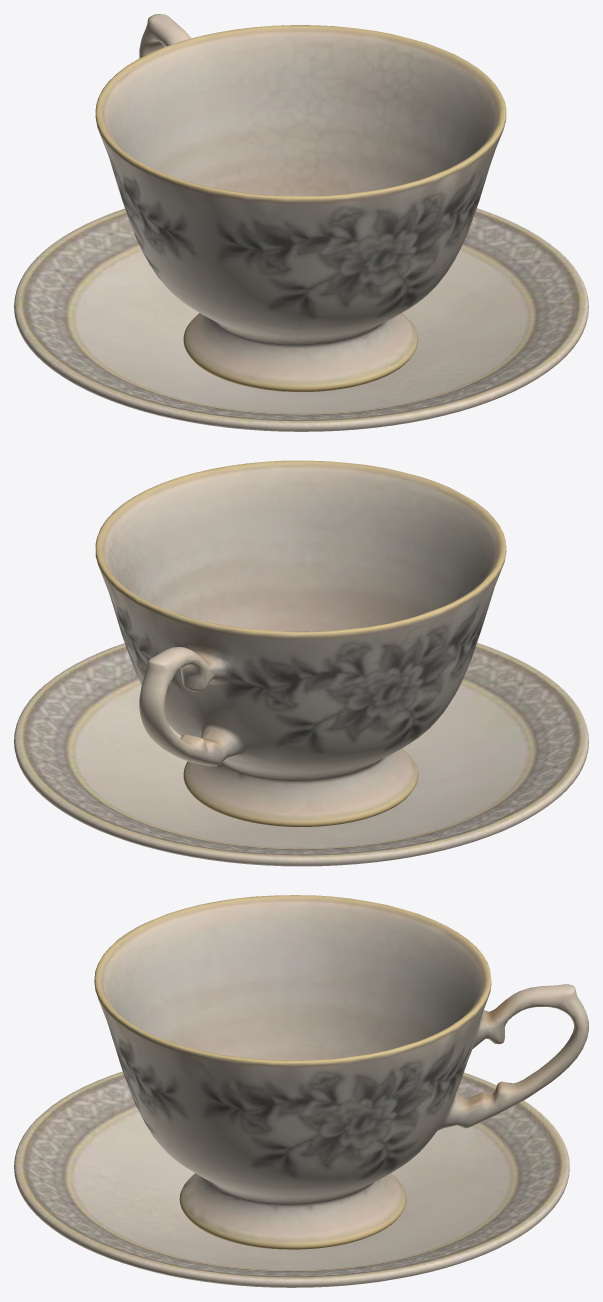
Rendered from teacup.glb.
3 renders of one model, top to bottom at view 1: azimuth 30°, elevation 25°; view 2: azimuth 150°, elevation 25°; view 3: azimuth 270°, elevation 25°, orthographic. The views are drawn at different scales.
Parts seen in each view (by area): view 1: tea_cup, tea_saucer; view 2: tea_cup, tea_saucer; view 3: tea_cup, tea_saucer.
Boxes of the visible parts, box(x1,y1,x2,y2) form: tea_cup: box(95, 14, 506, 391); tea_saucer: box(14, 208, 588, 431); tea_cup: box(95, 460, 506, 826); tea_saucer: box(14, 643, 588, 866); tea_cup: box(94, 895, 588, 1249); tea_saucer: box(14, 1071, 569, 1287).
Bounding box in the file's own units: 0.1486 × 0.0704 × 0.1537.
Materials: 2 (2 with a texture image).
